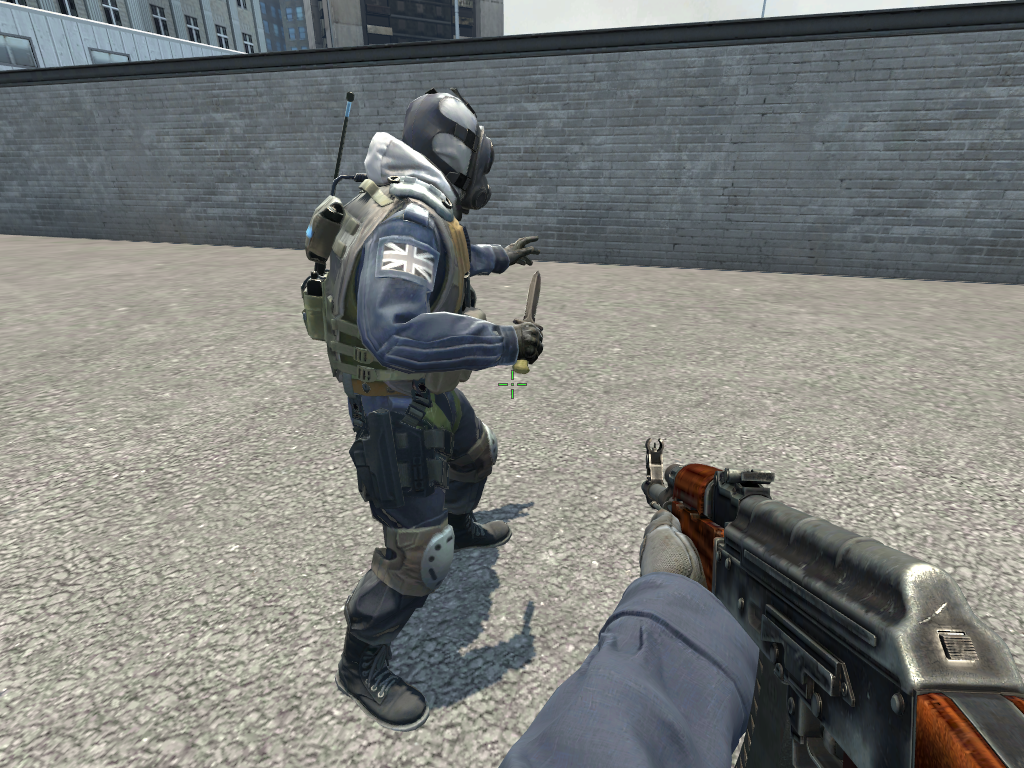ct head: (387, 82, 501, 218)
